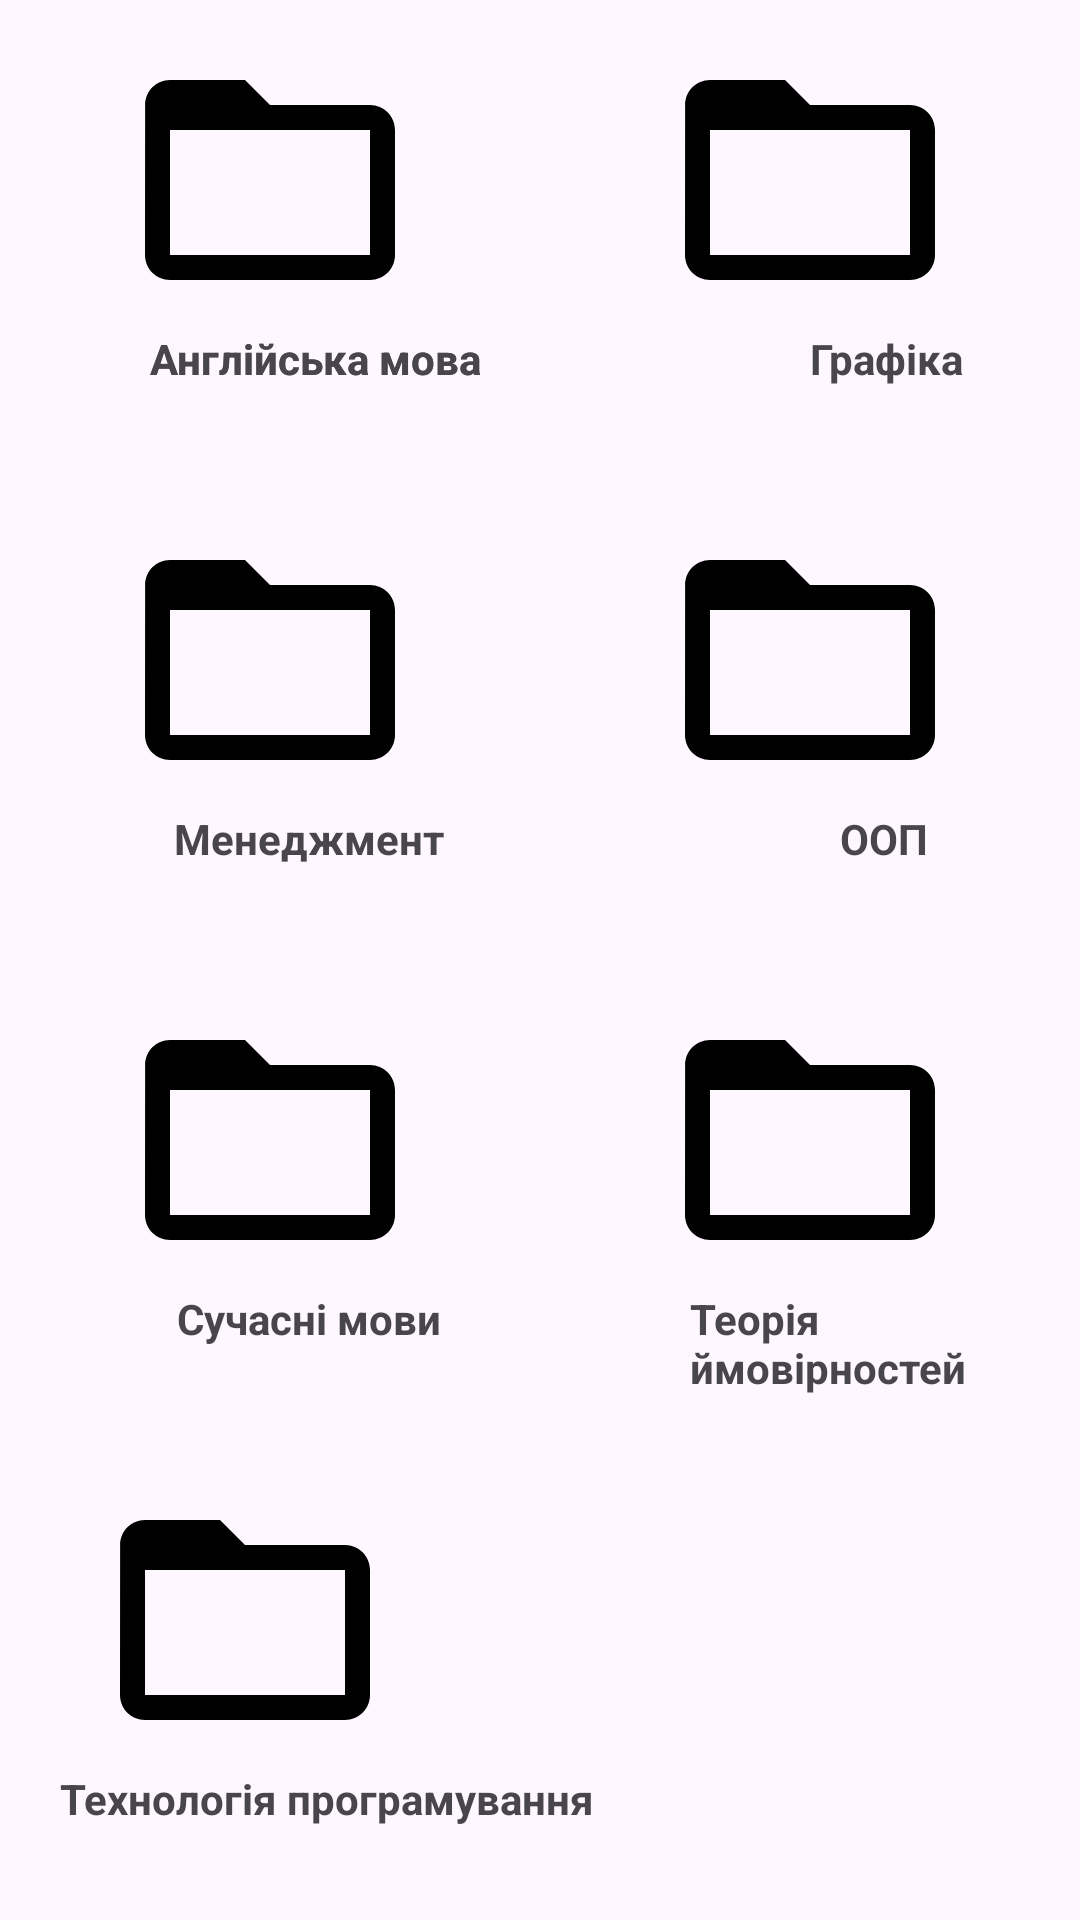

Locate icon controls on the screen. Image size 1080x1920, boxes as {"x1": x1, "y1": y1, "x2": x2, "y2": y2}.
folder open: {"x1": 145, "y1": 80, "x2": 395, "y2": 350}, {"x1": 685, "y1": 80, "x2": 935, "y2": 350}, {"x1": 145, "y1": 560, "x2": 395, "y2": 760}, {"x1": 685, "y1": 560, "x2": 935, "y2": 760}, {"x1": 145, "y1": 1040, "x2": 395, "y2": 1310}, {"x1": 685, "y1": 1040, "x2": 935, "y2": 1310}, {"x1": 120, "y1": 1520, "x2": 370, "y2": 1790}
